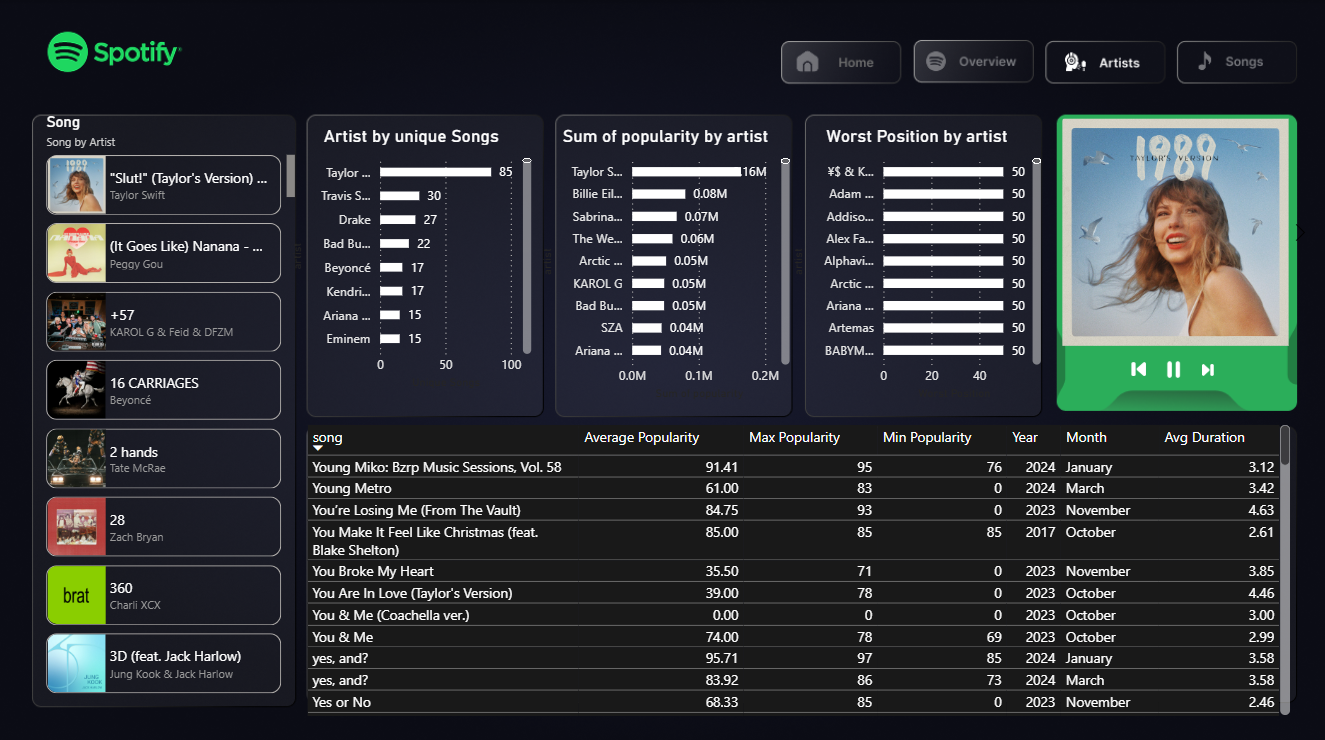

What the dashboard file says about the page in this screenshot:
{"tool":"powerbi","page":{"name":"Artist","canvas":[1280,720],"ordinal":2},"visuals":[{"type":"actionButton","box":[752.8,41.3,115.9,37.4],"z":0},{"type":"actionButton","box":[881,41.3,115.9,37.4],"z":1000},{"type":"actionButton","box":[1009.4,41.5,115.8,37.4],"z":2000},{"type":"actionButton","box":[1134.6,41.5,115.8,37.4],"z":3000},{"type":"advancedSlicerVisual","title":"Song ","fields":{"Values":["Top-50-World.song"]},"box":[998.8,107.1,271.4,233.3],"z":4000},{"type":"image","box":[1159,349.5,13.1,14.3],"z":5000},{"type":"image","box":[1086.9,348.8,23.8,15.5],"z":6000},{"type":"image","box":[1121.6,348.6,21.7,15.7],"z":7000},{"type":"clusteredBarChart","title":"Artist by unique Songs","fields":{"Category":["Top-50-World.artist"],"Y":["_measure.Unique Songs"]},"box":[276.5,120.2,241.6,259.9],"z":8000},{"type":"clusteredBarChart","fields":{"Category":["Top-50-World.artist"],"Y":["Sum(Top-50-World.popularity)"]},"box":[517.6,120.6,249.7,270.2],"z":9000},{"type":"clusteredBarChart","fields":{"Category":["Top-50-World.artist"],"Y":["_measure.Worst Position"]},"box":[760.1,120.6,249.7,270.2],"z":10000},{"type":"advancedSlicerVisual","title":"Song ","fields":{"Values":["Top-50-World.song"]},"box":[39.8,108.6,250.9,570.6],"z":11000},{"type":"tableEx","fields":{"Values":["Top-50-World.song","_measure.Average Popularity","_measure.Max Popularity","_measure.Min Popularity","Top-50-World.release_date.Variation.Date Hierarchy.Year","Top-50-World.release_date.Variation.Date Hierarchy.Month","_measure.Avg Duration"]},"box":[290.8,405.4,959.1,289.5],"z":12000}]}

Visuals, with their boxes in screenshot pixels (x1, y1, x2, y2), scaled from the page's 1280x720 canvas onto the 1325x740 screenshot:
actionButton: (779, 42, 899, 81)
actionButton: (912, 42, 1032, 81)
actionButton: (1045, 43, 1165, 81)
actionButton: (1174, 43, 1294, 81)
"Song " advancedSlicerVisual: (1034, 110, 1315, 350)
image: (1200, 359, 1213, 374)
image: (1125, 358, 1150, 374)
image: (1161, 358, 1183, 374)
"Artist by unique Songs" clusteredBarChart: (286, 124, 536, 391)
clusteredBarChart - Top-50-World.artist x Sum(Top-50-World.popularity): (536, 124, 794, 402)
clusteredBarChart - Top-50-World.artist x _measure.Worst Position: (787, 124, 1045, 402)
"Song " advancedSlicerVisual: (41, 112, 301, 698)
tableEx - Top-50-World.song x _measure.Average Popularity: (301, 417, 1294, 714)
